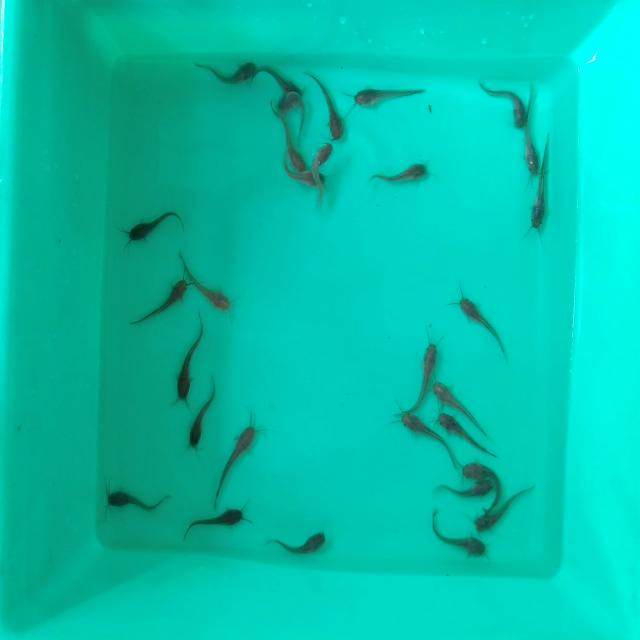lele: (218, 422, 260, 500), (125, 277, 191, 326), (174, 314, 210, 399), (193, 243, 236, 313), (467, 82, 526, 128), (457, 295, 505, 349), (354, 81, 426, 114), (438, 411, 502, 448), (188, 376, 221, 444), (123, 210, 191, 242), (105, 481, 172, 513), (266, 117, 305, 170), (472, 501, 535, 533), (409, 338, 438, 407), (184, 504, 248, 534), (323, 70, 350, 140), (264, 527, 328, 556), (200, 56, 256, 87), (434, 377, 477, 416), (398, 408, 438, 446), (426, 534, 488, 558), (259, 63, 304, 95), (452, 458, 512, 482), (313, 140, 335, 203), (373, 163, 427, 188), (526, 175, 548, 232), (278, 92, 308, 132), (272, 167, 324, 188), (524, 115, 540, 178), (437, 480, 491, 498)
